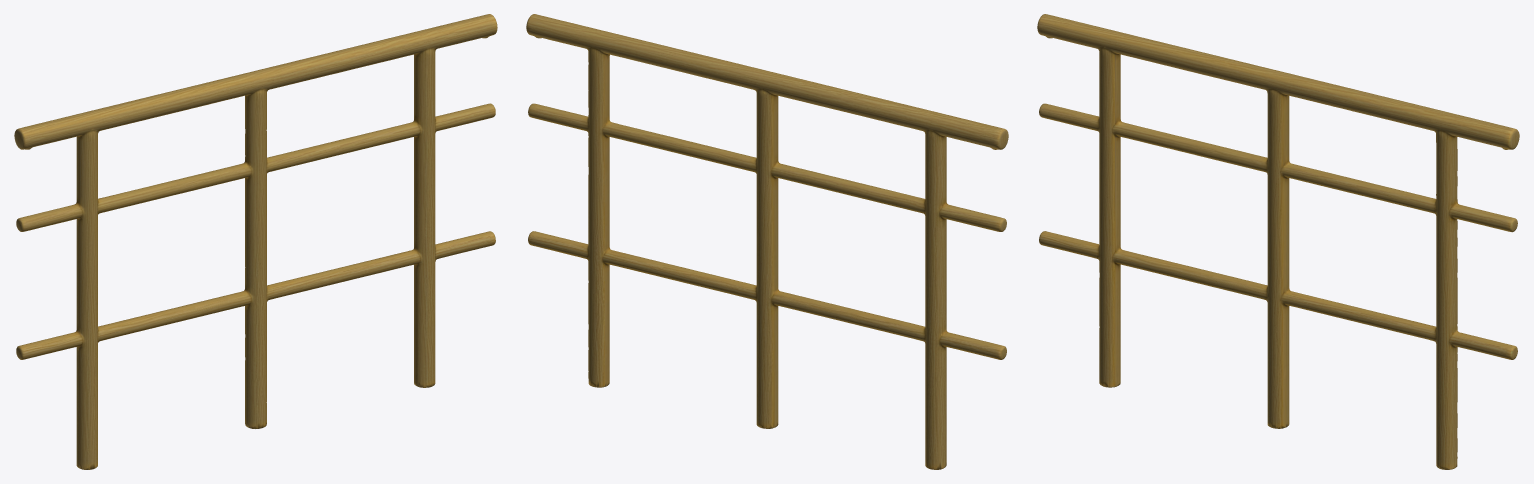
Rendered from barandadorada.glb.
3 views of the same model, side by side, from view 1: azimuth 30°, elevation 25°; view 2: azimuth 150°, elevation 25°; view 3: azimuth 330°, elevation 25° (orthographic).
Visible parts, largest first — view 1: mesh_node; view 2: mesh_node; view 3: mesh_node.
Part boxes in pixels (x1=…): mesh_node: x1=14, y1=14, x2=497, y2=469; mesh_node: x1=526, y1=14, x2=1008, y2=469; mesh_node: x1=1037, y1=14, x2=1519, y2=469.
Size of the model in its own units: 1 by 0.7112 by 0.0406.
1 material, 1 textured.
